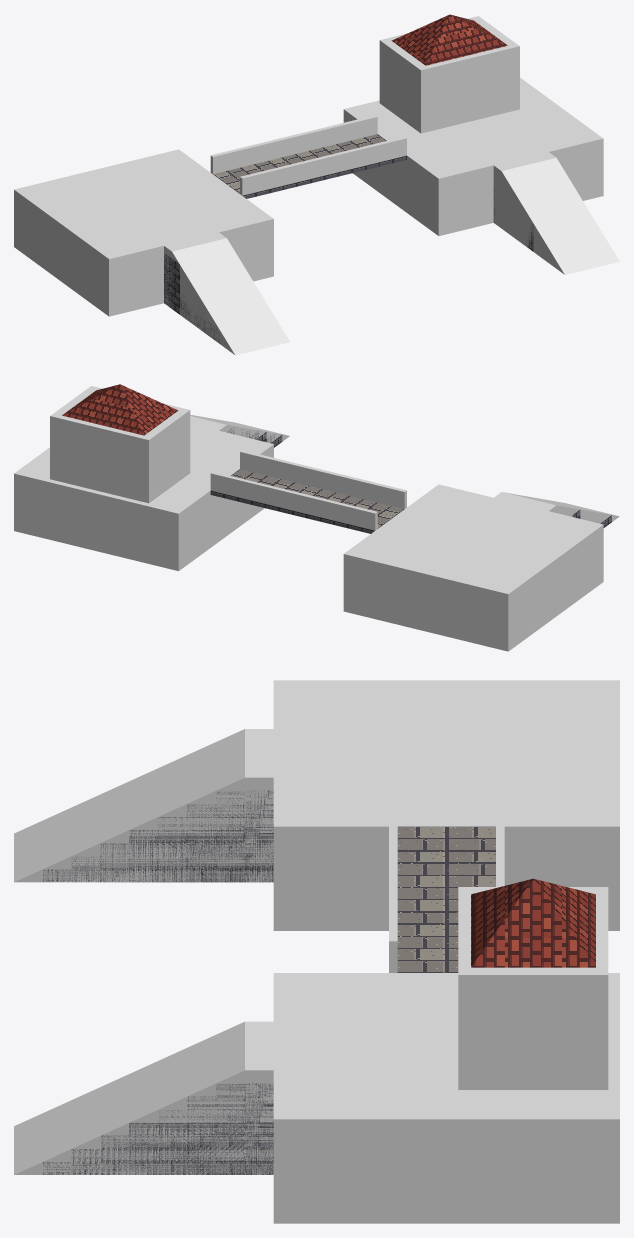
The model's file is stone_crossing.glb.
3 renders of one model, top to bottom at view 1: azimuth 30°, elevation 25°; view 2: azimuth 150°, elevation 25°; view 3: azimuth 270°, elevation 25°, orthographic. The views are drawn at different scales.
Parts seen in each view (by area): view 1: col_platform_west, col_platform_east, col_hut, col_stairs_east, col_stairs_west, col_railing_north, col_railing_south, roof, bridge_deck, col_landing_east, col_landing_west, stairs_west_6; view 2: col_platform_west, col_platform_east, col_hut, col_railing_north, col_railing_south, roof, bridge_deck, col_stairs_west, col_stairs_east, col_landing_west; view 3: col_platform_west, col_platform_east, col_stairs_west, col_stairs_east, col_hut, bridge_deck, roof, col_landing_east, col_landing_west, stairs_east_3, stairs_east_2, stairs_east_1 (+10 smaller).
Part boxes in pixels (x1,y1,x2,y2): col_platform_west: (14, 149, 273, 316); col_platform_east: (343, 77, 603, 235); col_hut: (379, 16, 519, 133); col_stairs_east: (501, 158, 619, 274); col_stairs_west: (172, 238, 289, 355); col_railing_north: (210, 115, 377, 173); col_railing_south: (240, 136, 406, 195); roof: (391, 14, 507, 65); bridge_deck: (213, 134, 406, 198); col_landing_east: (493, 152, 556, 228); col_landing_west: (164, 232, 226, 308); stairs_west_6: (164, 254, 179, 314); col_platform_west: (343, 484, 603, 651); col_platform_east: (14, 424, 273, 571); col_hut: (50, 386, 190, 503); col_railing_north: (210, 471, 377, 530); col_railing_south: (240, 450, 406, 509); roof: (62, 384, 178, 435); bridge_deck: (210, 469, 403, 533); col_stairs_west: (502, 492, 619, 523); col_stairs_east: (190, 414, 289, 443); col_landing_west: (494, 492, 556, 512); col_platform_west: (273, 680, 619, 930); col_platform_east: (273, 973, 619, 1223); col_stairs_west: (14, 729, 244, 882); col_stairs_east: (14, 1021, 244, 1174); col_hut: (458, 887, 608, 1089); bridge_deck: (397, 826, 495, 972); roof: (471, 878, 595, 967); col_landing_east: (245, 1021, 273, 1174); col_landing_west: (245, 729, 273, 882); stairs_east_3: (129, 1122, 273, 1173); stairs_east_2: (101, 1135, 273, 1174); stairs_east_1: (71, 1149, 273, 1174).
Size of the model in its own units: 18 by 5.2 by 10.5.
Materials: 3 (3 with a texture image).
